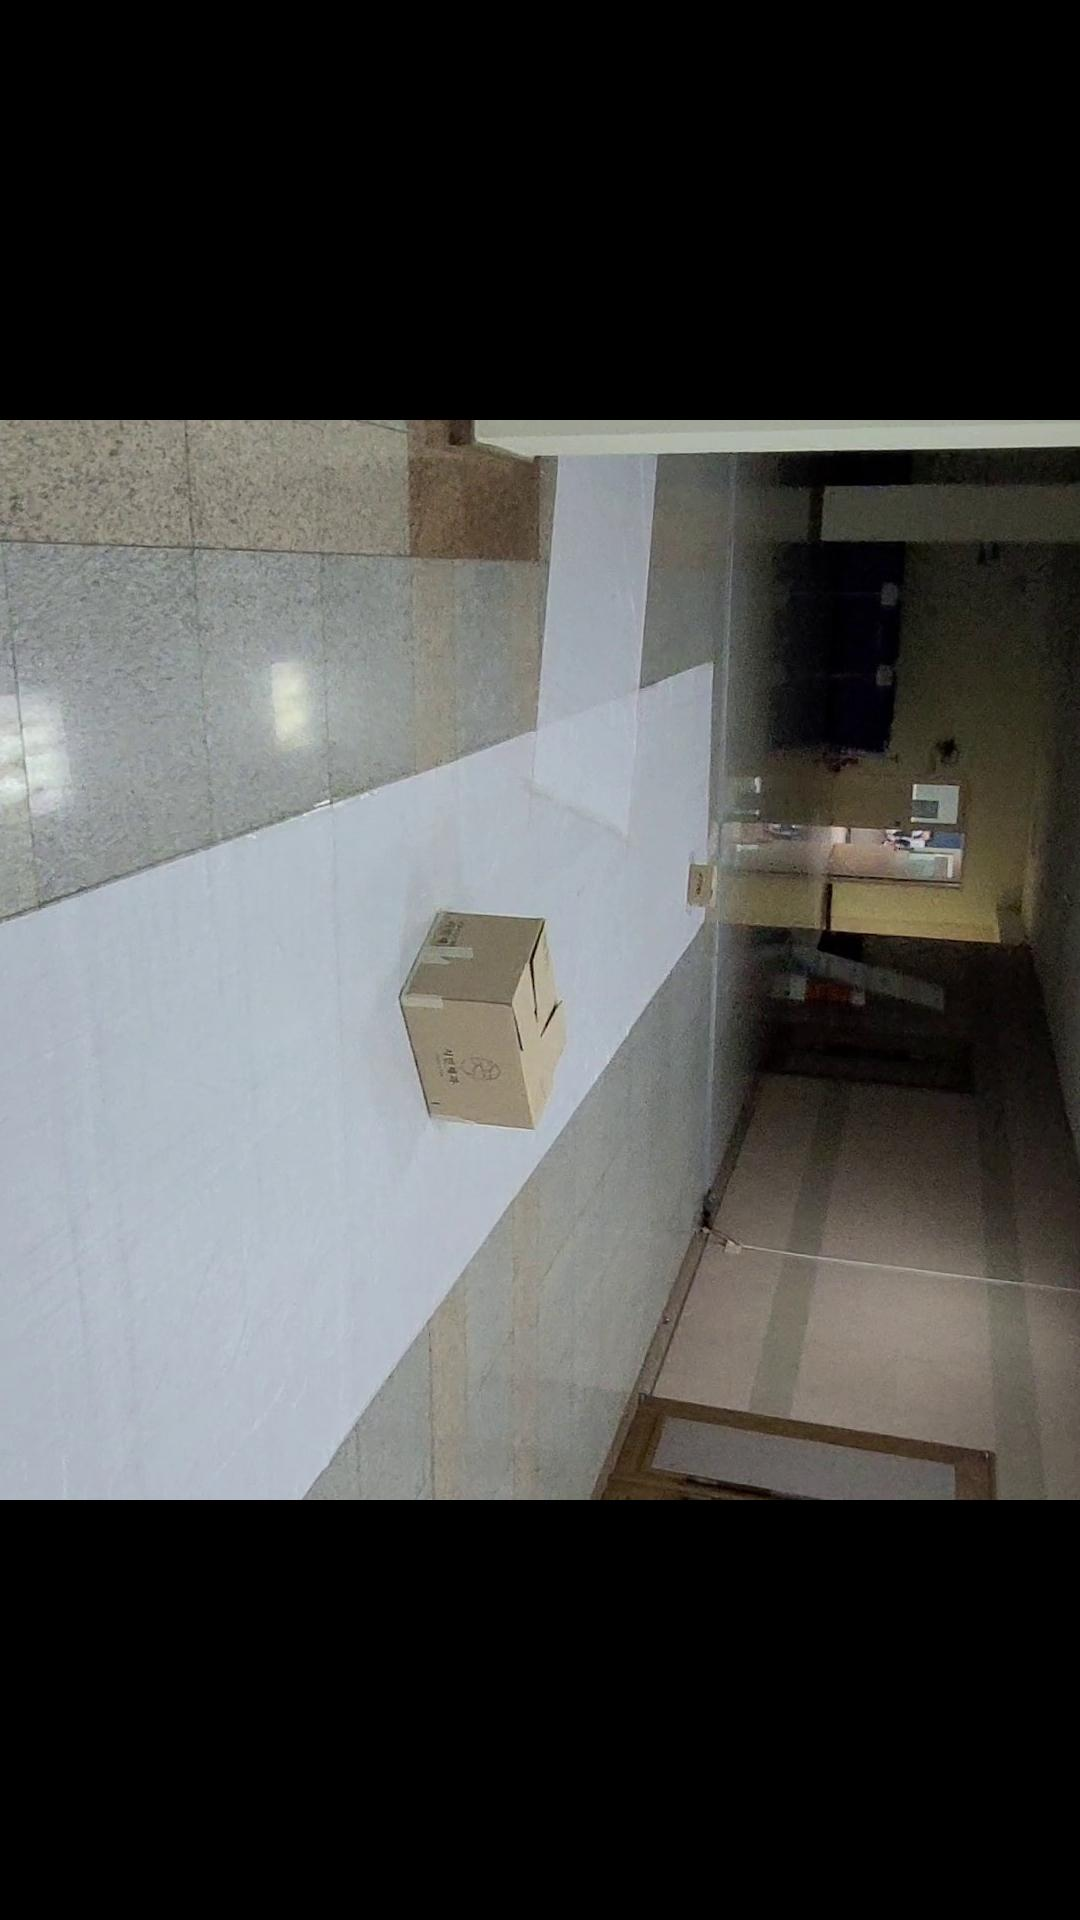Box: (367, 906, 592, 1164), (655, 818, 745, 957)
